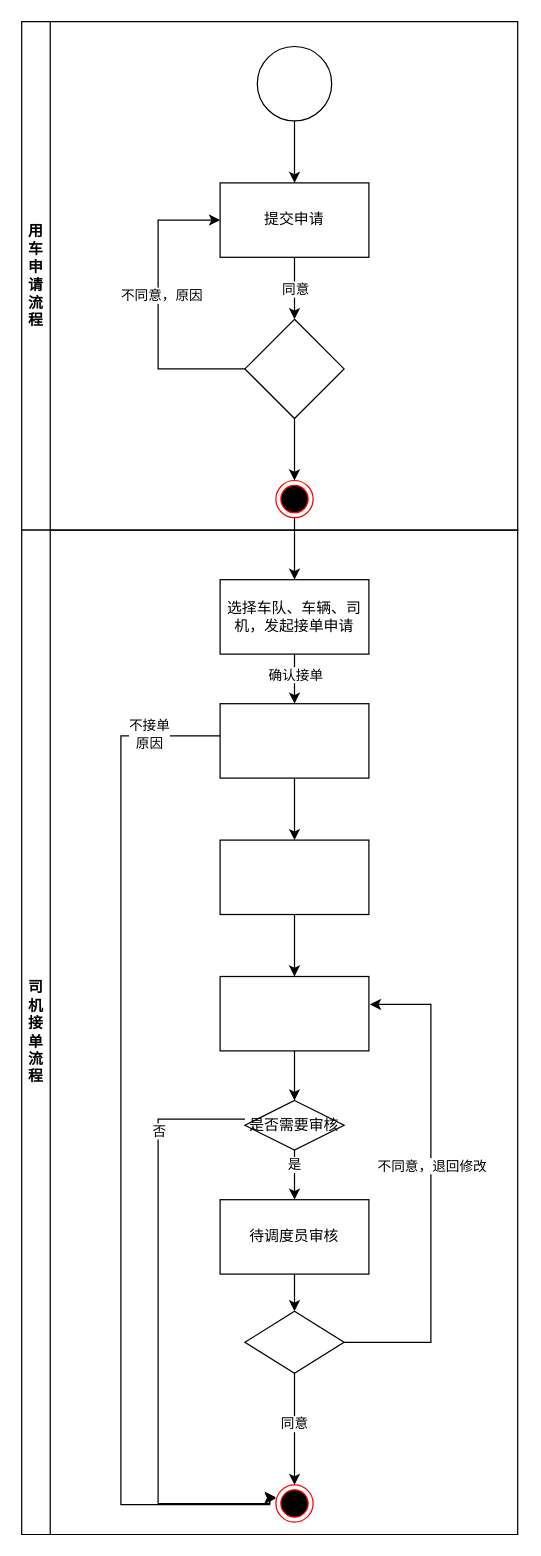
The diagram is 541 pixels wide and 1556 high, and some of its shapes have lost their labels. The shapes that lost their labels are listed below. From the top down, each one's centre as x and y in pixels, then its label:
At (294,740): "司机接单".
At (294,876): "出车中".
At (294,1013): "提交出行记录".
